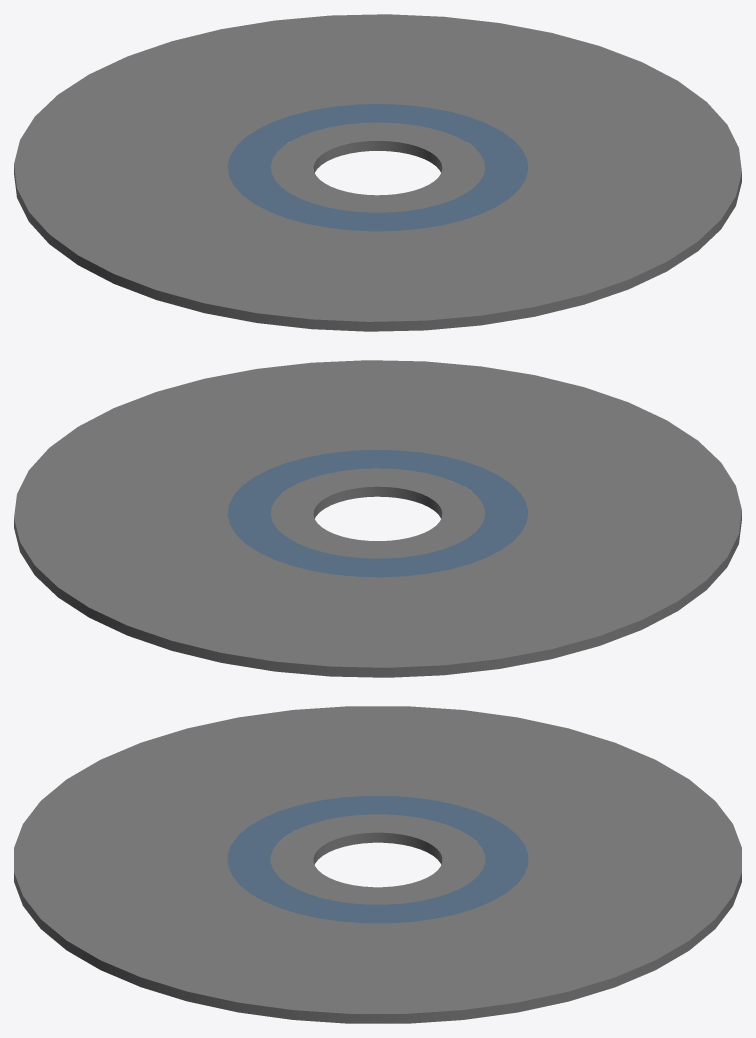
File: SM_Build_Circle2.FBX
3 renders of one model, top to bottom at view 1: azimuth 30°, elevation 25°; view 2: azimuth 150°, elevation 25°; view 3: azimuth 270°, elevation 25°, orthographic.
Parts seen in each view (by area): view 1: SM_Build_Circle2; view 2: SM_Build_Circle2; view 3: SM_Build_Circle2.
Boxes of the visible parts, x1=… form: SM_Build_Circle2: x1=14, y1=14, x2=741, y2=331; SM_Build_Circle2: x1=14, y1=360, x2=741, y2=677; SM_Build_Circle2: x1=14, y1=706, x2=741, y2=1023.
Size of the model in its own units: 2538 by 41.56 by 2538.
